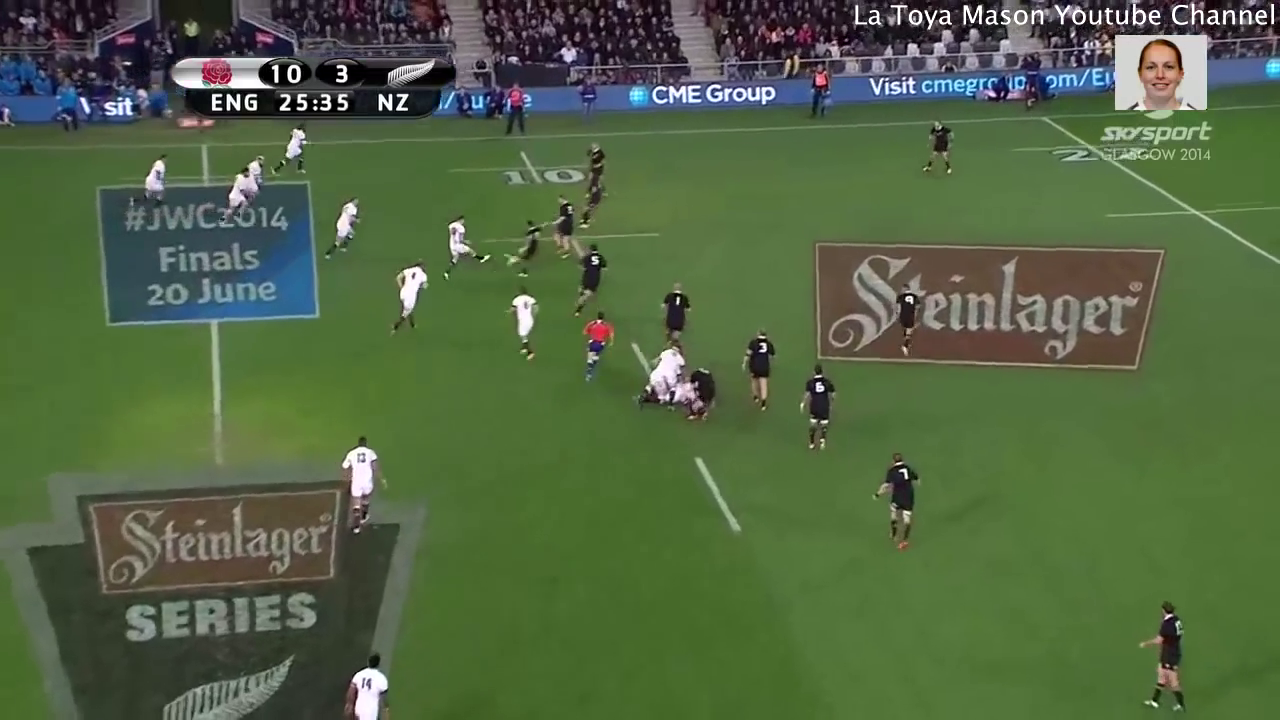10_metre: (479, 207, 666, 264), (445, 145, 610, 197)
player: (1124, 596, 1205, 720), (865, 446, 924, 560), (334, 433, 394, 542), (793, 360, 843, 455), (436, 212, 498, 286), (117, 141, 177, 216), (735, 328, 782, 418), (498, 281, 544, 366), (383, 256, 428, 336), (564, 239, 606, 320), (888, 280, 926, 364), (571, 170, 616, 239), (642, 340, 686, 408), (916, 113, 956, 185), (679, 363, 721, 431), (652, 284, 695, 349), (502, 217, 544, 282), (322, 193, 359, 264), (213, 165, 253, 230), (269, 120, 313, 179), (578, 310, 613, 384), (541, 191, 578, 260), (243, 150, 268, 206), (580, 139, 609, 179)
